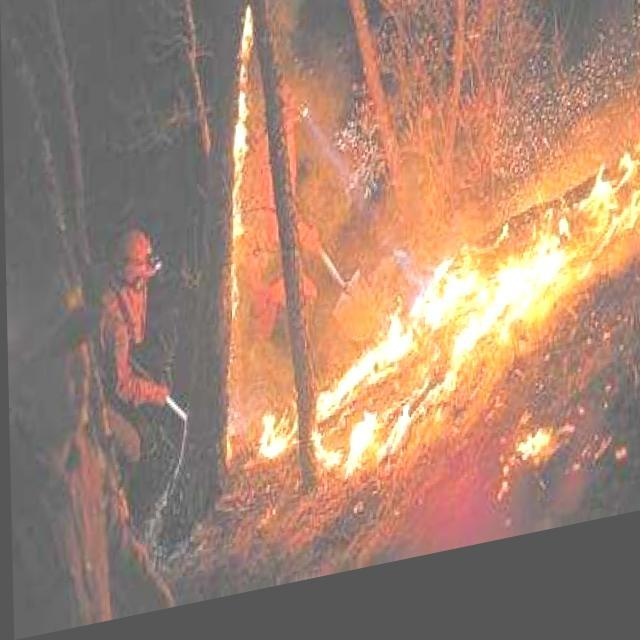Fire: (218, 0, 639, 538)
